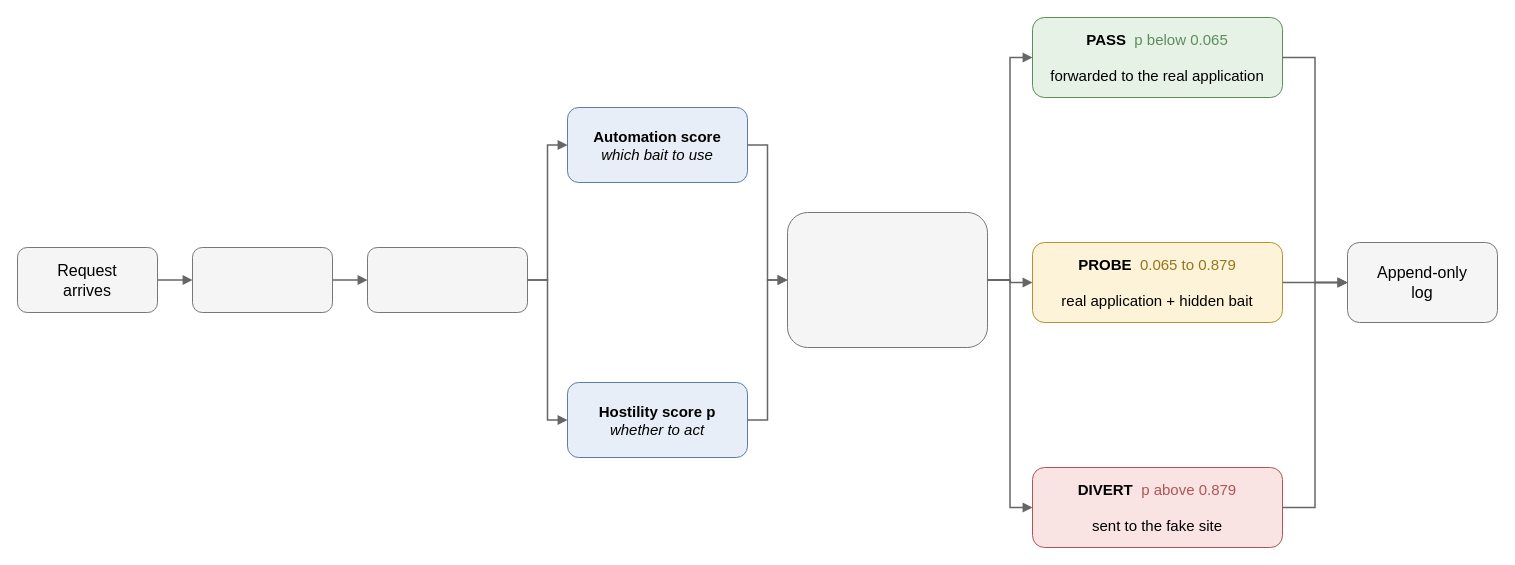
This 1515x565 diagram has some shape labels left out. The shapes that lost their labels are listed below. From the top down, each one's centre as x and y in pixels, then its label:
At (x=262, y=279): "Identify the session".
At (x=447, y=279): "Read 18 signals from the request".
At (x=887, y=280): "Price the three actions cost table + value of information Take the cheapest".
